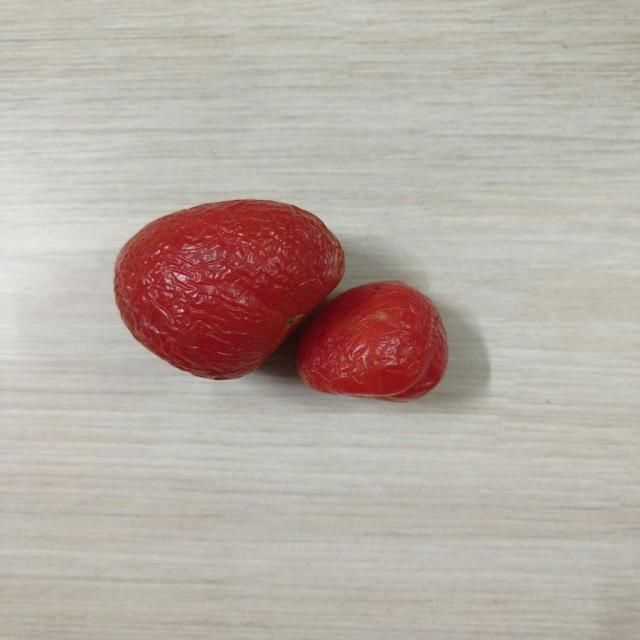overripe: (111, 196, 347, 383), (303, 275, 458, 404)
